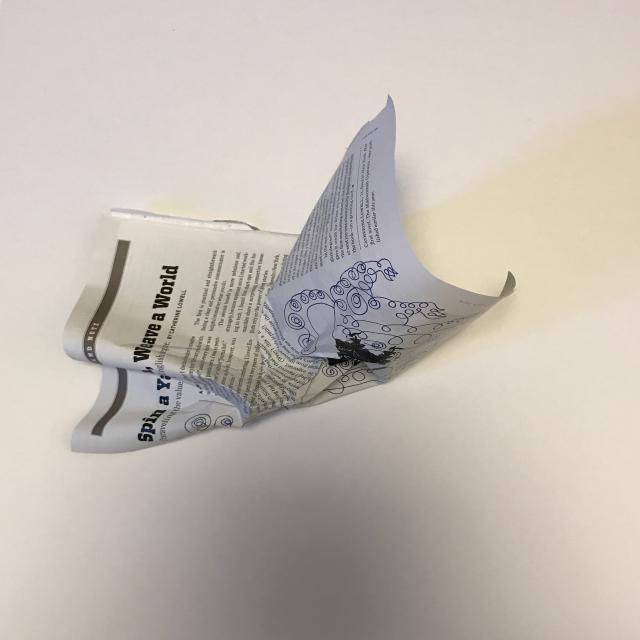paper: (55, 92, 515, 454)
